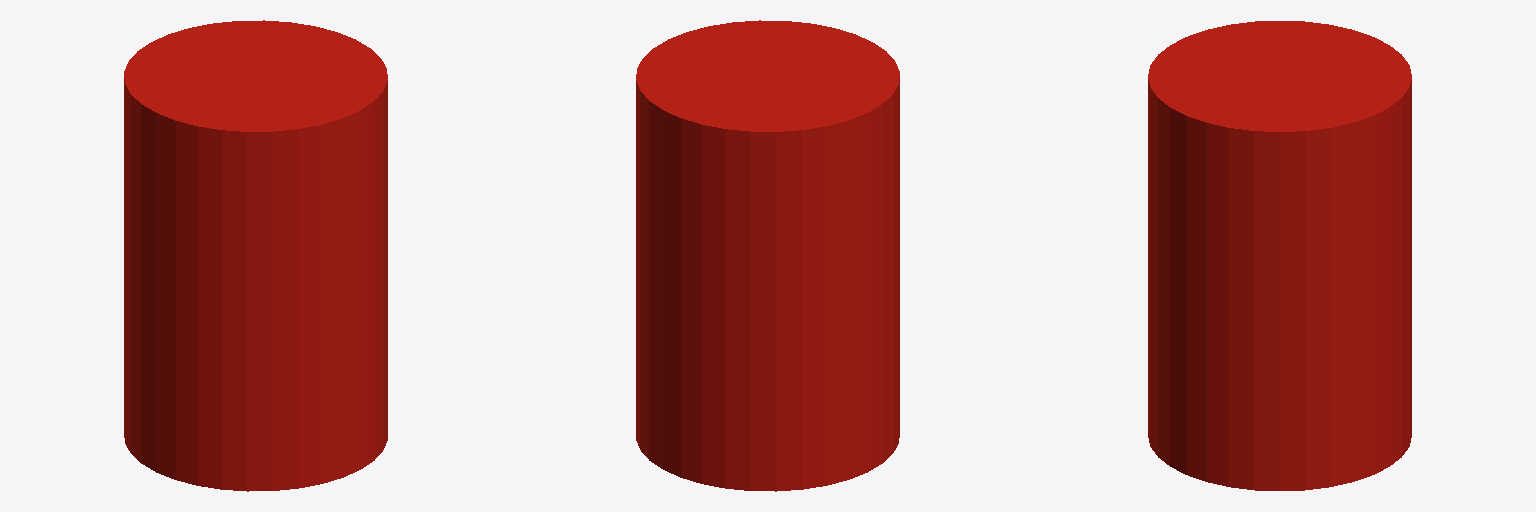
The robot description file, URDF, robot "mug_red":
<?xml version="1.0"?>
<robot name="mug_red">
  <link name="base_link">
    <inertial>
      <origin xyz="0 0 0.060000" rpy="0 0 0"/>
      <mass value="0.25"/>
      <inertia ixx="0.00040000" ixy="0" ixz="0" iyy="0.00040000" iyz="0" izz="0.00020000"/>
    </inertial>
    <visual>
      <origin xyz="0 0 0.060000" rpy="0 0 0"/>
      <geometry><cylinder radius="0.04" length="0.12"/></geometry>
      <material name="mug_red_mat">
        <color rgba="0.8 0.15 0.1 1.0"/>
      </material>
    </visual>
    <collision>
      <origin xyz="0 0 0.060000" rpy="0 0 0"/>
      <geometry><cylinder radius="0.04" length="0.12"/></geometry>
    </collision>
  </link>
</robot>

--- Render facts (derived) ---
Views: 3 orthographic renders of the robot side by side, from view 1: azimuth 30°, elevation 25°; view 2: azimuth 150°, elevation 25°; view 3: azimuth 270°, elevation 25°.
Robot: mug_red — 1 links, 0 joints (none); root link base_link; default pose: every joint at zero.
Links seen in each view (by area): view 1: base_link; view 2: base_link; view 3: base_link.
Link boxes in pixels (x1=…): base_link: x1=124, y1=20, x2=387, y2=491; base_link: x1=636, y1=20, x2=899, y2=491; base_link: x1=1148, y1=21, x2=1411, y2=490.
Size in the robot's own frame: 0.08 by 0.08 by 0.12 metres.
Geometry: primitives only (box / cylinder / sphere), no mesh files.
